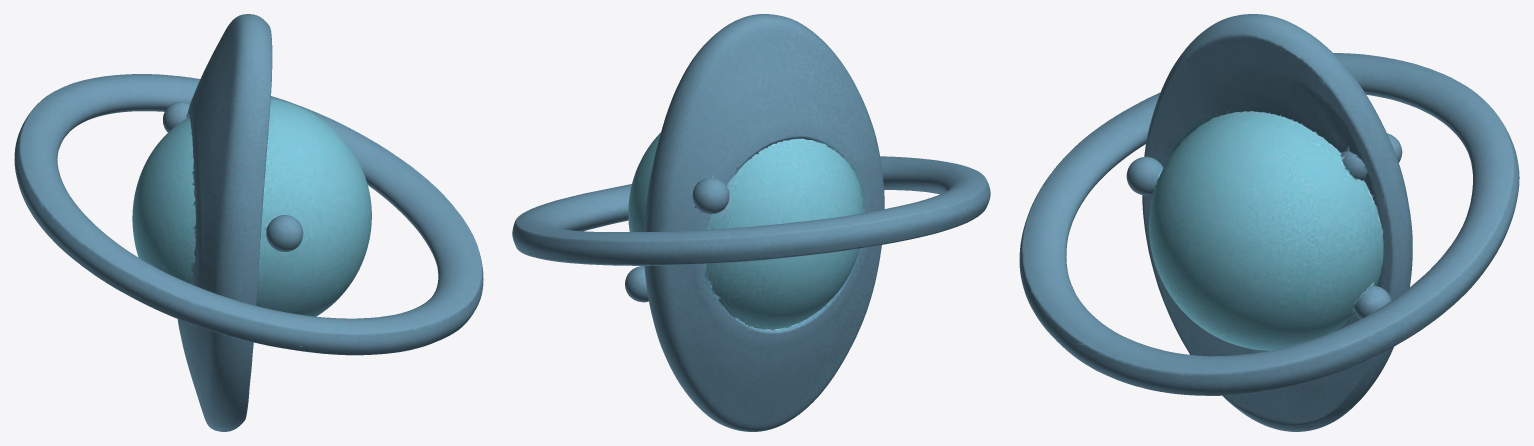
Rendered from atom.glb.
3 renders of one model, left to right at view 1: azimuth 30°, elevation 25°; view 2: azimuth 150°, elevation 25°; view 3: azimuth 270°, elevation 25°, orthographic. The views are drawn at different scales.
Parts seen in each view (by area): view 1: tripo_node_2e9a8fe6-52a3-4903-925b-f7be54a3d959; view 2: tripo_node_2e9a8fe6-52a3-4903-925b-f7be54a3d959; view 3: tripo_node_2e9a8fe6-52a3-4903-925b-f7be54a3d959.
Boxes of the visible parts, x1,y1,x2,y2 form: tripo_node_2e9a8fe6-52a3-4903-925b-f7be54a3d959: (14, 14, 483, 431); tripo_node_2e9a8fe6-52a3-4903-925b-f7be54a3d959: (512, 14, 990, 431); tripo_node_2e9a8fe6-52a3-4903-925b-f7be54a3d959: (1019, 14, 1519, 431).
Bounding box in the file's own units: 0.9767 × 0.9113 × 0.9801.
1 material, 1 textured.
